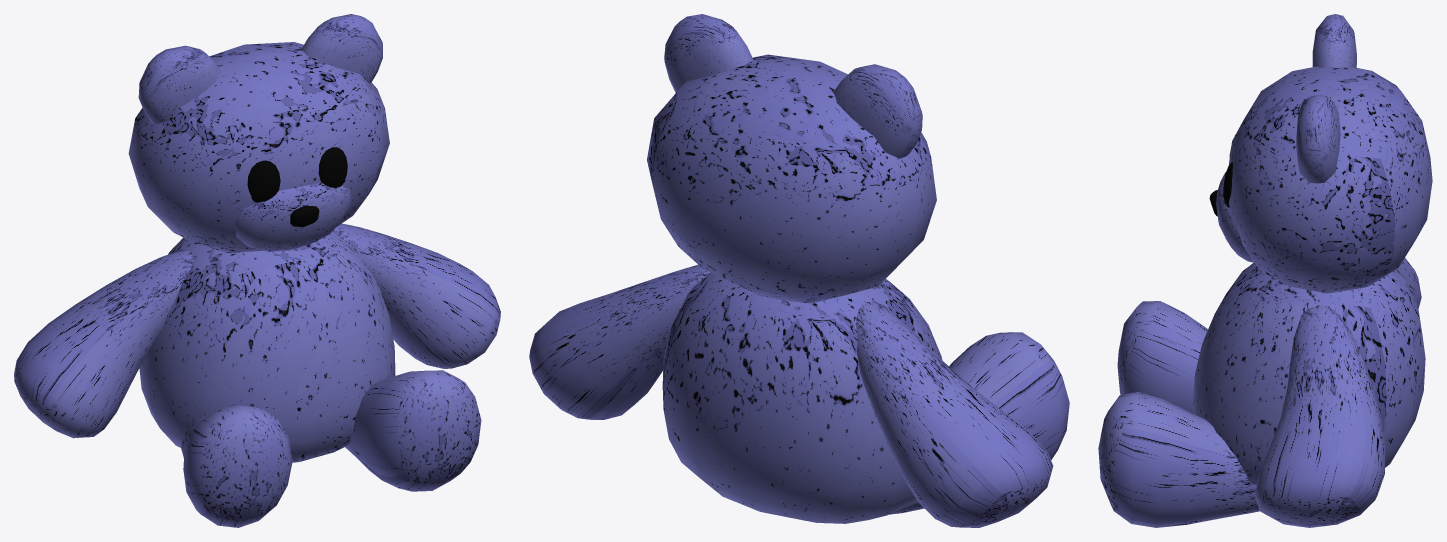
The model's file is ursinho.fbx.
3 views of the same model, side by side, from view 1: azimuth 30°, elevation 25°; view 2: azimuth 150°, elevation 25°; view 3: azimuth 270°, elevation 25° (orthographic). The views are drawn at different scales.
Parts seen in each view (by area): view 1: Cube.003; view 2: Cube.003; view 3: Cube.003.
Part boxes in pixels (bbox=[...]): Cube.003: bbox=[14, 14, 500, 527]; Cube.003: bbox=[529, 14, 1069, 527]; Cube.003: bbox=[1098, 14, 1432, 527].
Bounding box in the file's own units: 9.87 × 8.64 × 6.13.
2 materials, 1 textured.
